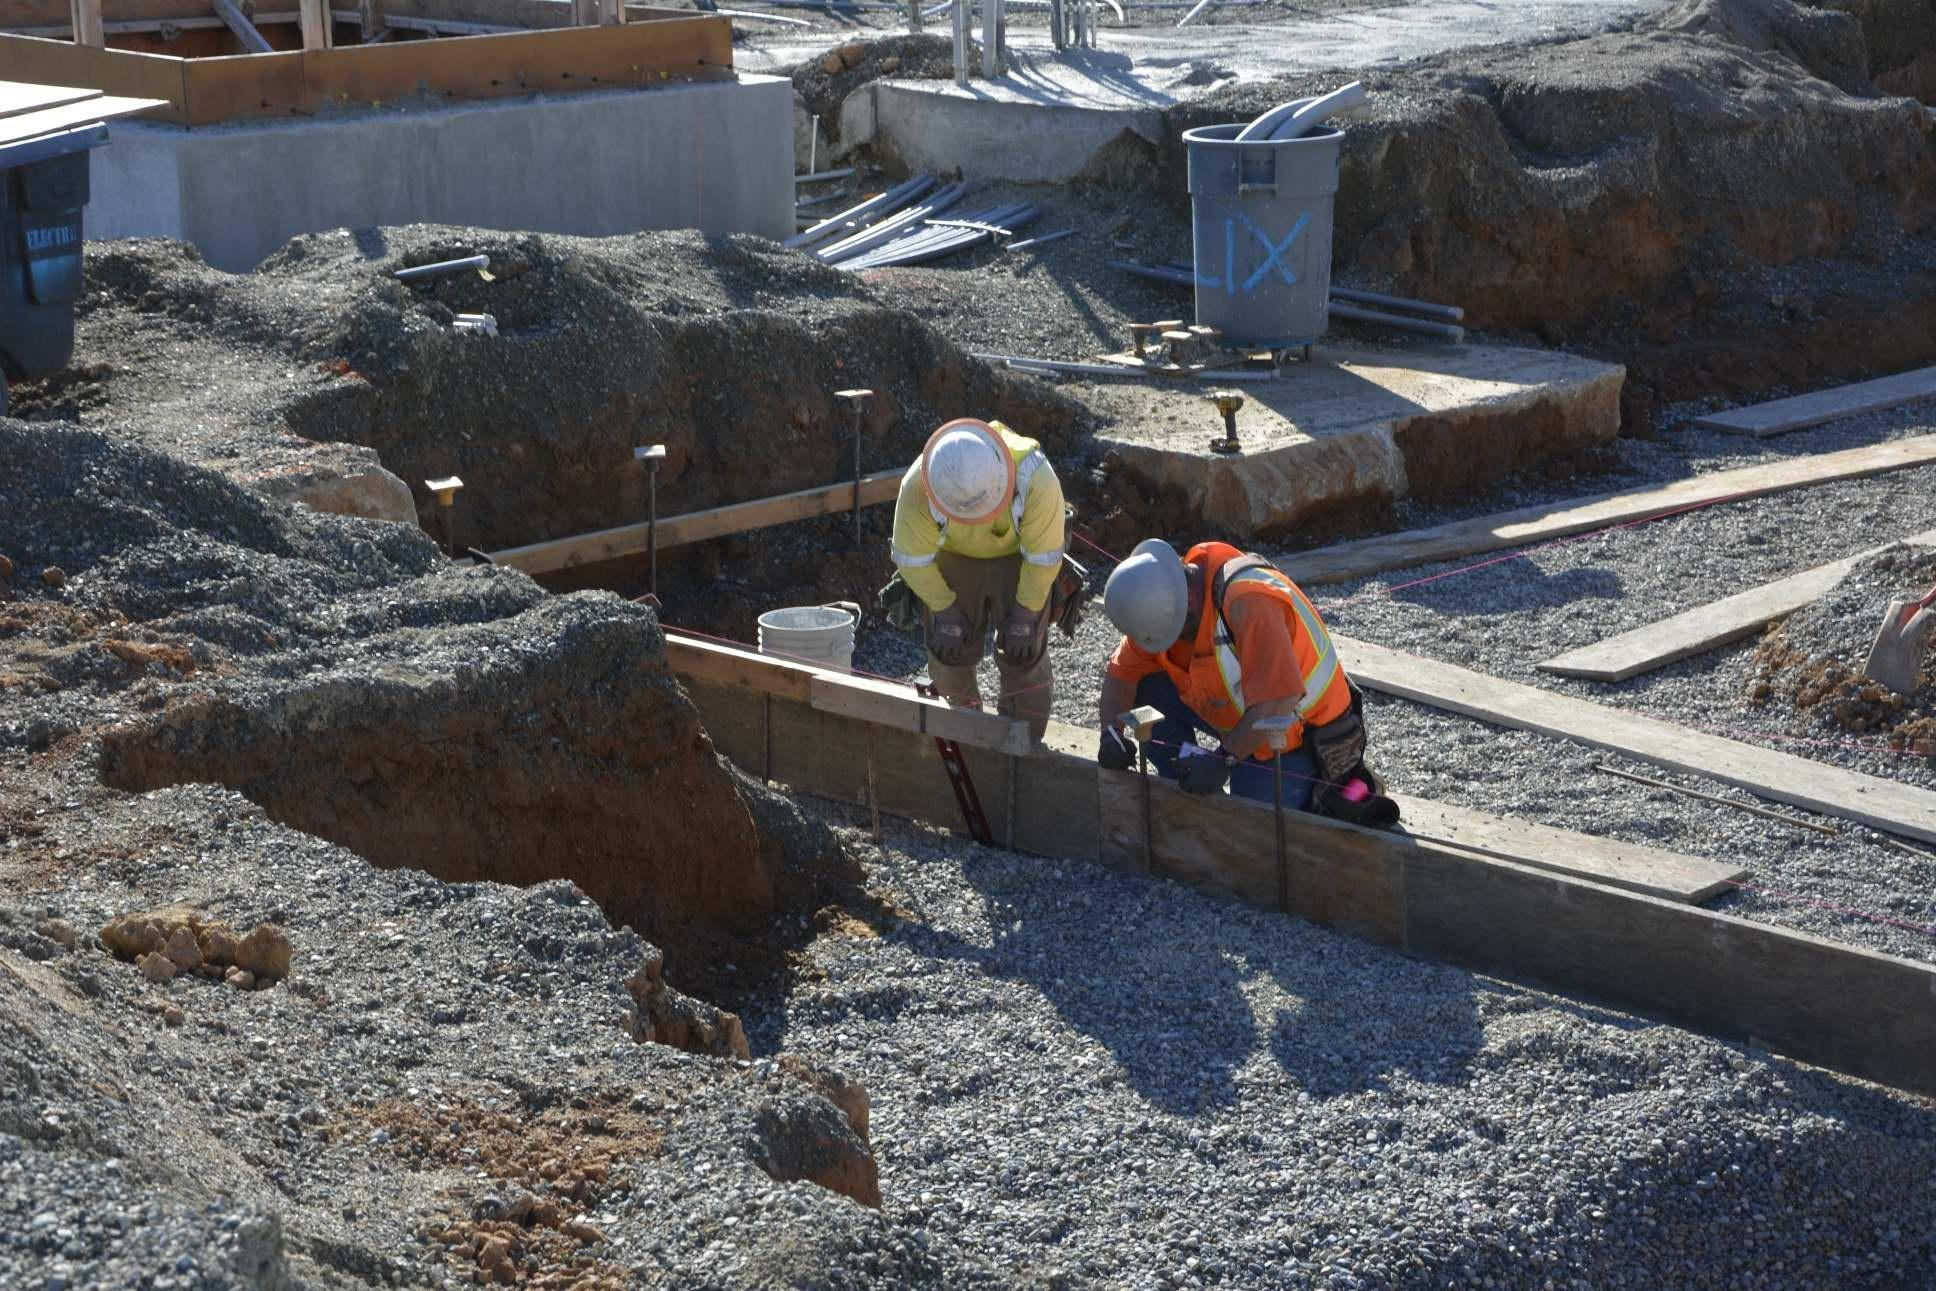helmet: (1101, 539, 1186, 659), (915, 429, 1011, 521)
person: (1095, 526, 1371, 834), (881, 392, 1062, 763)
